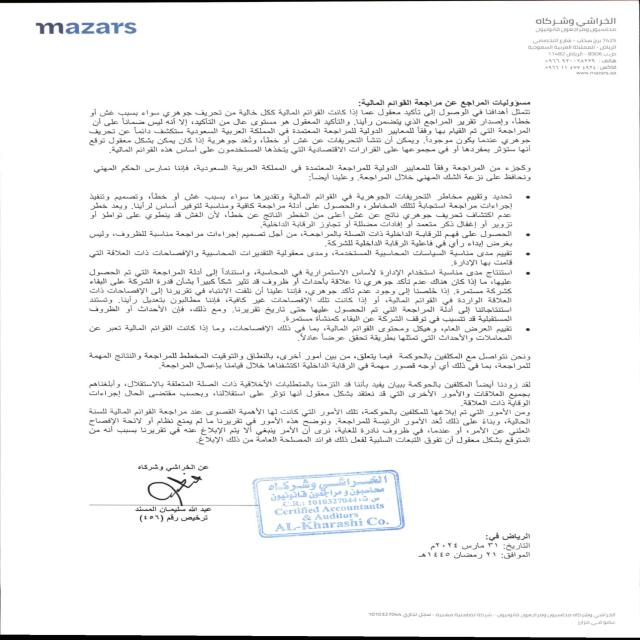auditor_report: (348, 98, 536, 107)
